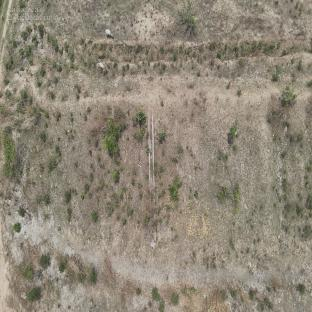slope_drain: (148, 115, 158, 248)
vegetation: (95, 115, 124, 157)
